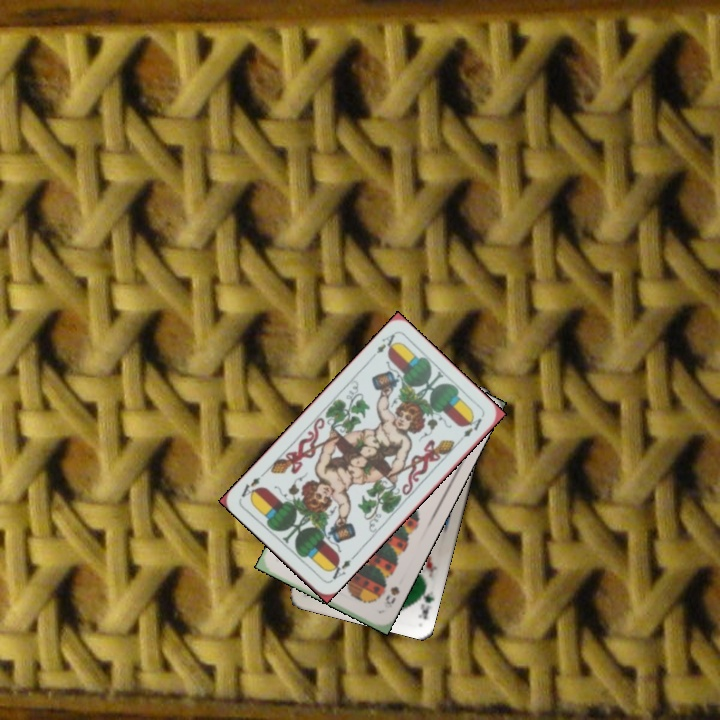EA: (366, 330, 400, 363), (325, 555, 354, 582)
GK: (414, 582, 437, 622)
S8: (379, 582, 402, 611)
